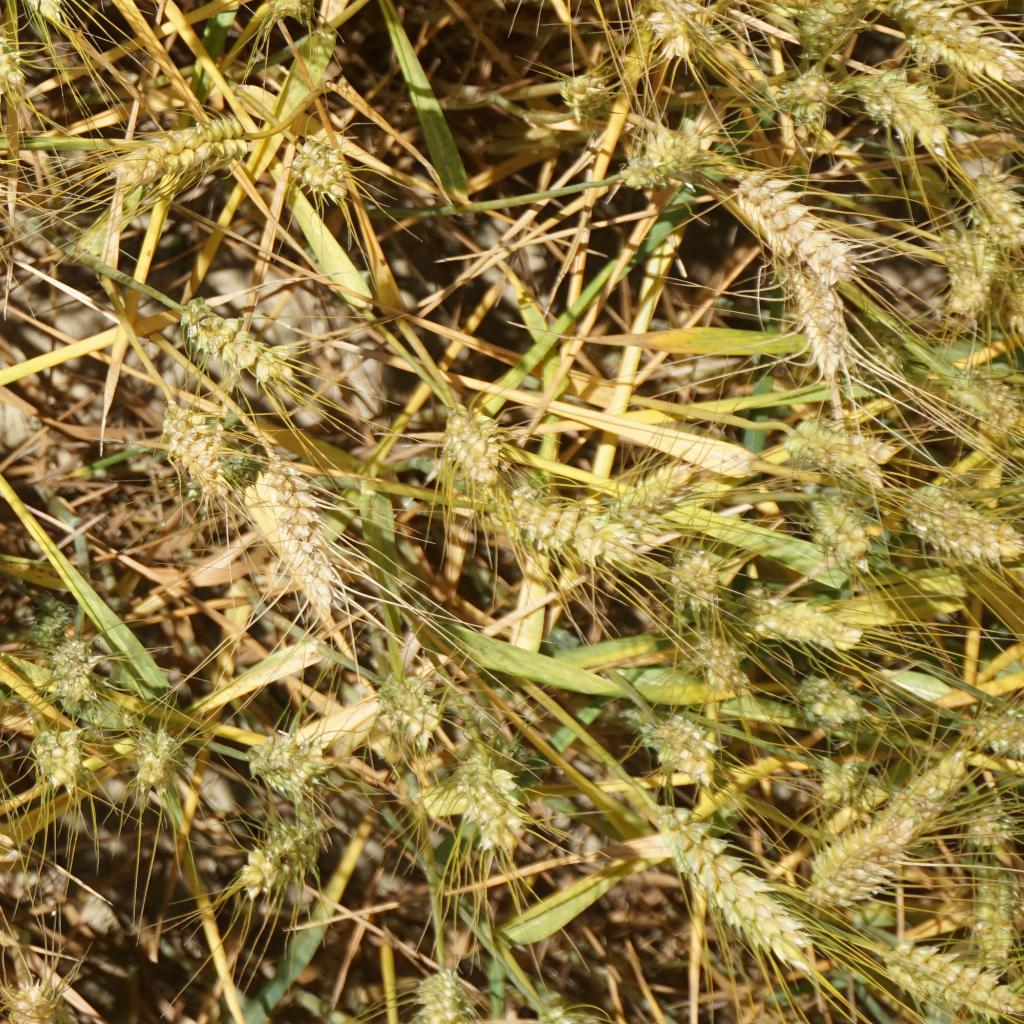0-0: (644, 797, 813, 969), (730, 162, 852, 273), (164, 296, 296, 396), (751, 257, 850, 382), (118, 109, 254, 197), (259, 465, 338, 605), (430, 721, 545, 816), (894, 936, 1022, 1020), (905, 477, 1020, 566), (819, 806, 916, 905), (857, 61, 951, 162), (636, 703, 727, 796), (780, 415, 907, 481), (453, 754, 536, 854), (429, 384, 507, 489), (231, 813, 323, 899), (948, 366, 1024, 463), (926, 212, 985, 334), (602, 462, 697, 536), (910, 27, 1010, 97), (609, 126, 711, 194), (950, 153, 1024, 246), (811, 480, 883, 572), (512, 495, 612, 560), (174, 403, 235, 508), (760, 590, 861, 653), (243, 734, 325, 811), (25, 727, 108, 802), (377, 670, 444, 761), (632, 0, 721, 66), (813, 749, 886, 826), (969, 855, 1024, 953), (794, 0, 882, 60), (284, 131, 353, 203), (876, 0, 990, 43), (908, 733, 966, 816), (38, 632, 102, 706), (768, 63, 831, 138), (555, 69, 623, 135), (966, 784, 1024, 861), (0, 963, 68, 1024), (977, 678, 1024, 760), (792, 671, 858, 729), (694, 632, 757, 689), (214, 404, 259, 483), (671, 545, 730, 605), (404, 962, 461, 1024), (254, 0, 332, 41), (132, 731, 183, 792), (30, 591, 76, 643), (0, 13, 28, 96), (0, 0, 64, 13)
